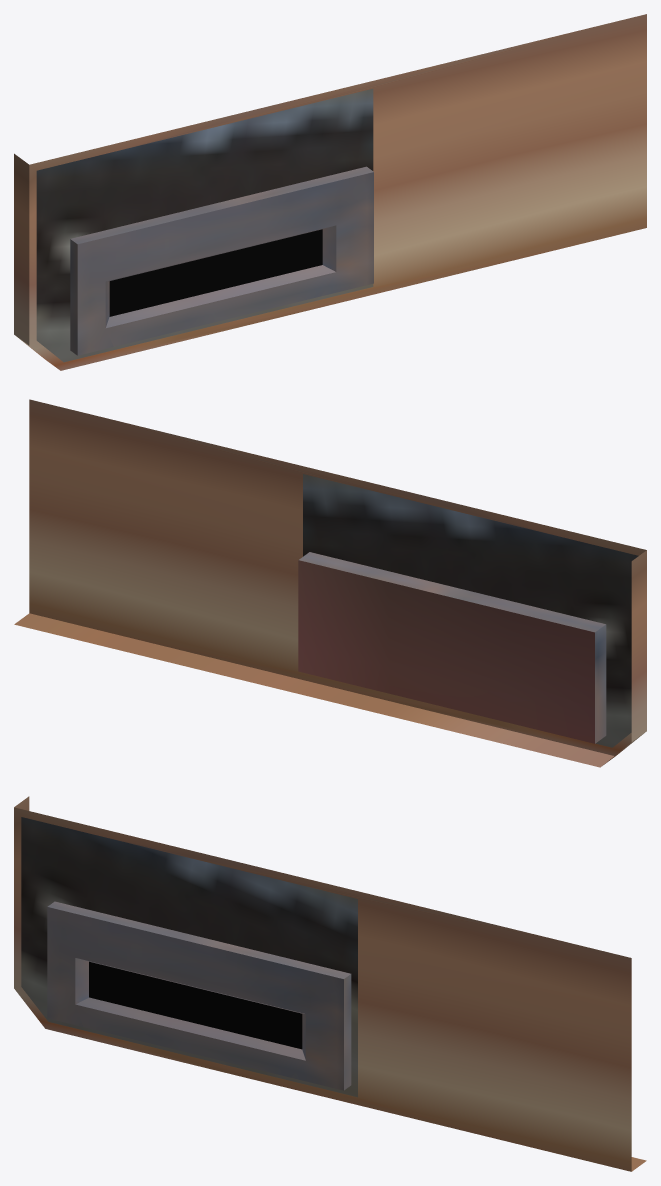
File: ScorePanel 1.fbx
The picture shows the model from 3 angles, top to bottom: view 1: azimuth 30°, elevation 25°; view 2: azimuth 150°, elevation 25°; view 3: azimuth 330°, elevation 25°; orthographic projection.
Visible parts, largest first — view 1: Cube; view 2: Cube; view 3: Cube.
Boxes of the visible parts, left/top/right/bottom form: Cube: left=14, top=14, right=646, bottom=370; Cube: left=14, top=399, right=646, bottom=767; Cube: left=14, top=796, right=646, bottom=1171.
Bounding box in the file's own units: 132 × 43.59 × 8.43.
